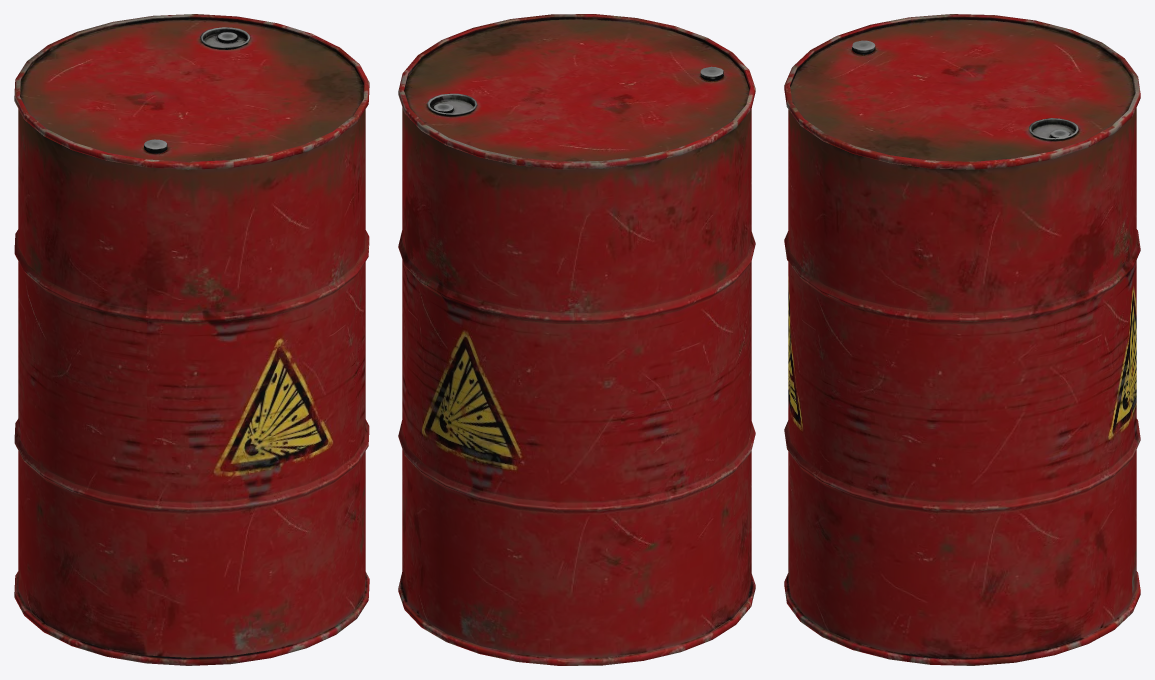
File: Barrel_01.glb
3 views of the same model, side by side, from view 1: azimuth 30°, elevation 25°; view 2: azimuth 150°, elevation 25°; view 3: azimuth 270°, elevation 25° (orthographic).
Parts seen in each view (by area): view 1: Barrel_01; view 2: Barrel_01; view 3: Barrel_01.
Part boxes in pixels (x1,y1,x2,y2): Barrel_01: [14, 14, 369, 665]; Barrel_01: [398, 14, 755, 665]; Barrel_01: [784, 14, 1140, 665].
Bounding box in the file's own units: 0.5631 × 0.88 × 0.5631.
1 material, 1 textured.
